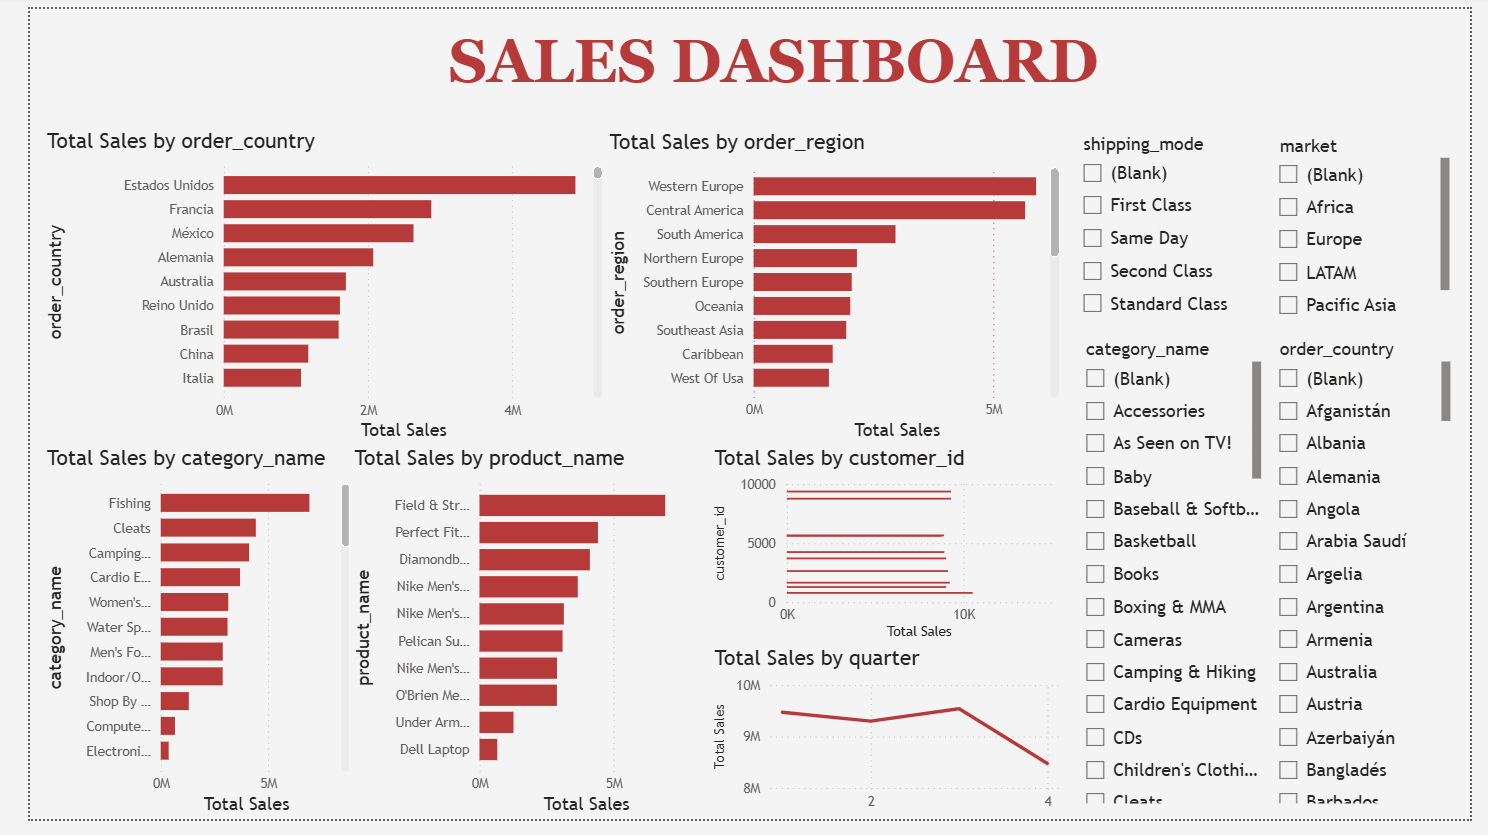

Layout of this report page (visuals, bound fields, positions):
{"tool":"powerbi","page":{"name":"Sales Dashboard","canvas":[1280,720],"ordinal":1},"visuals":[{"type":"clusteredBarChart","fields":{"Category":["logistics dim_locations.order_country"],"Y":["logistics fact_orders.Total Sales"]},"box":[10,105,503.8,282.5],"z":0},{"type":"clusteredBarChart","fields":{"Category":["logistics dim_locations.order_region"],"Y":["logistics fact_orders.Total Sales"]},"box":[510,106.2,410,281.2],"z":1000},{"type":"clusteredBarChart","fields":{"Category":["logistics dim_products.category_name"],"Y":["logistics fact_orders.Total Sales"]},"box":[10,387.5,280,332.5],"z":2000},{"type":"clusteredBarChart","fields":{"Category":["logistics dim_products.product_name"],"Y":["logistics fact_orders.Total Sales"]},"box":[283.8,387.5,320,332.5],"z":3000},{"type":"lineChart","fields":{"Category":["logistics dim_date.quarter"],"Y":["logistics fact_orders.Total Sales"]},"box":[603.8,565,316.2,155],"z":4000},{"type":"barChart","fields":{"Category":["logistics dim_customers.customer_id"],"Y":["logistics fact_orders.Total Sales"]},"box":[603.8,387.5,320,177.5],"z":5000},{"type":"slicer","fields":{"Values":["logistics dim_locations.market"]},"box":[1097.5,106.2,168.8,173.8],"z":6000},{"type":"slicer","fields":{"Values":["logistics dim_date.quarter"]},"box":[1053.8,565,170,120],"z":7000},{"type":"slicer","fields":{"Values":["logistics dim_shipping.shipping_mode"]},"box":[923.8,105,173.8,175],"z":8000},{"type":"slicer","fields":{"Values":["logistics dim_locations.order_country"]},"box":[1097.5,287.5,170,423.8],"z":9000},{"type":"slicer","fields":{"Values":["logistics dim_products.category_name"]},"box":[925,287.5,173.8,423.8],"z":10000},{"type":"barChart","box":[188.8,65,925,12.5],"z":11000},{"type":"textbox","box":[77.5,11.2,1166.2,93.8],"z":11001}]}

Visuals, with their boxes in screenshot pixels (x1, y1, x2, y2), scaled from the page's 1280x720 canvas onto the 1488x835 screenshot:
clusteredBarChart - logistics dim_locations.order_country x logistics fact_orders.Total Sales: x1=12 y1=122 x2=597 y2=449
clusteredBarChart - logistics dim_locations.order_region x logistics fact_orders.Total Sales: x1=593 y1=123 x2=1070 y2=449
clusteredBarChart - logistics dim_products.category_name x logistics fact_orders.Total Sales: x1=12 y1=449 x2=337 y2=834
clusteredBarChart - logistics dim_products.product_name x logistics fact_orders.Total Sales: x1=330 y1=449 x2=702 y2=834
lineChart - logistics dim_date.quarter x logistics fact_orders.Total Sales: x1=702 y1=655 x2=1070 y2=834
barChart - logistics dim_customers.customer_id x logistics fact_orders.Total Sales: x1=702 y1=449 x2=1074 y2=655
slicer - logistics dim_locations.market: x1=1276 y1=123 x2=1472 y2=325
slicer - logistics dim_date.quarter: x1=1225 y1=655 x2=1423 y2=794
slicer - logistics dim_shipping.shipping_mode: x1=1074 y1=122 x2=1276 y2=325
slicer - logistics dim_locations.order_country: x1=1276 y1=333 x2=1473 y2=825
slicer - logistics dim_products.category_name: x1=1075 y1=333 x2=1277 y2=825
barChart: x1=219 y1=75 x2=1295 y2=90
textbox: x1=90 y1=13 x2=1446 y2=122
